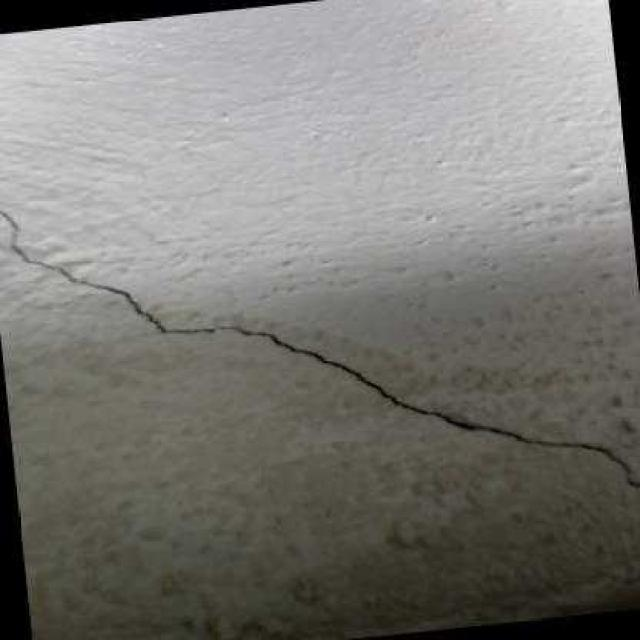D00: (0, 199, 640, 517)
